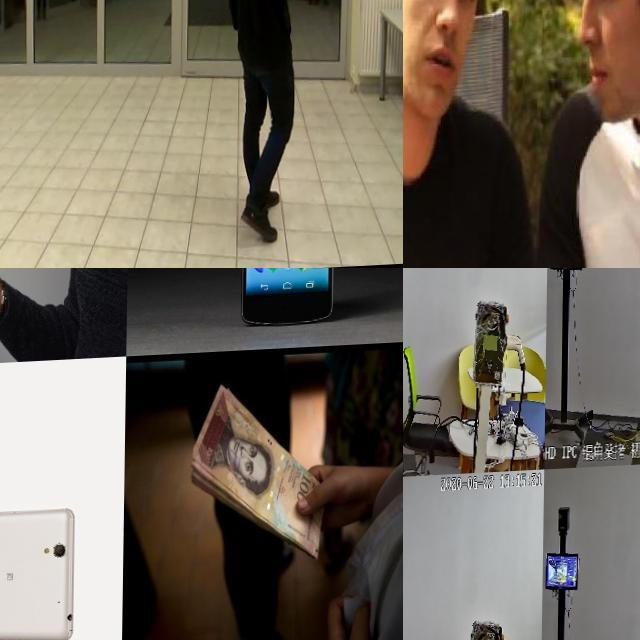gun-knife-thesis - v11 Yolov5 augmented: (364, 0, 403, 18), (403, 268, 415, 287)
